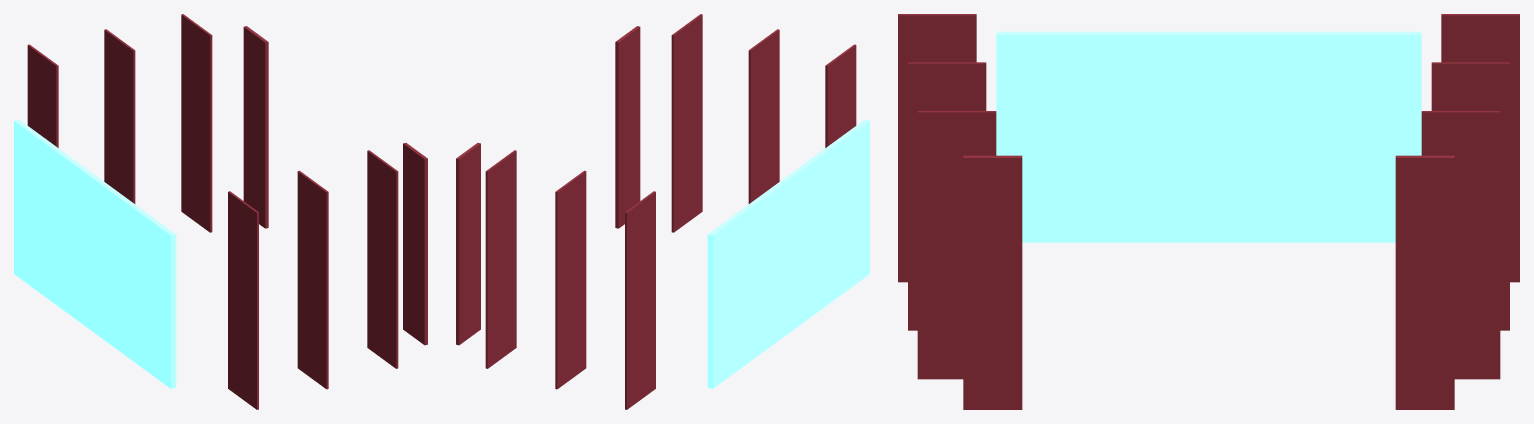
Rendered from SM_Theater_Main_Stage_Drapes.fbx.
3 renders of one model, left to right at view 1: azimuth 30°, elevation 25°; view 2: azimuth 150°, elevation 25°; view 3: azimuth 270°, elevation 25°, orthographic. The views are drawn at different scales.
Parts seen in each view (by area): view 1: SM_Theater_Main_Stage_Drapes; view 2: SM_Theater_Main_Stage_Drapes; view 3: SM_Theater_Main_Stage_Drapes.
Boxes of the visible parts, x1,y1,x2,y2 form: SM_Theater_Main_Stage_Drapes: (14,14,427,409); SM_Theater_Main_Stage_Drapes: (456,14,869,409); SM_Theater_Main_Stage_Drapes: (898,14,1519,409).
Size of the model in its own units: 1170 by 900 by 1900.
